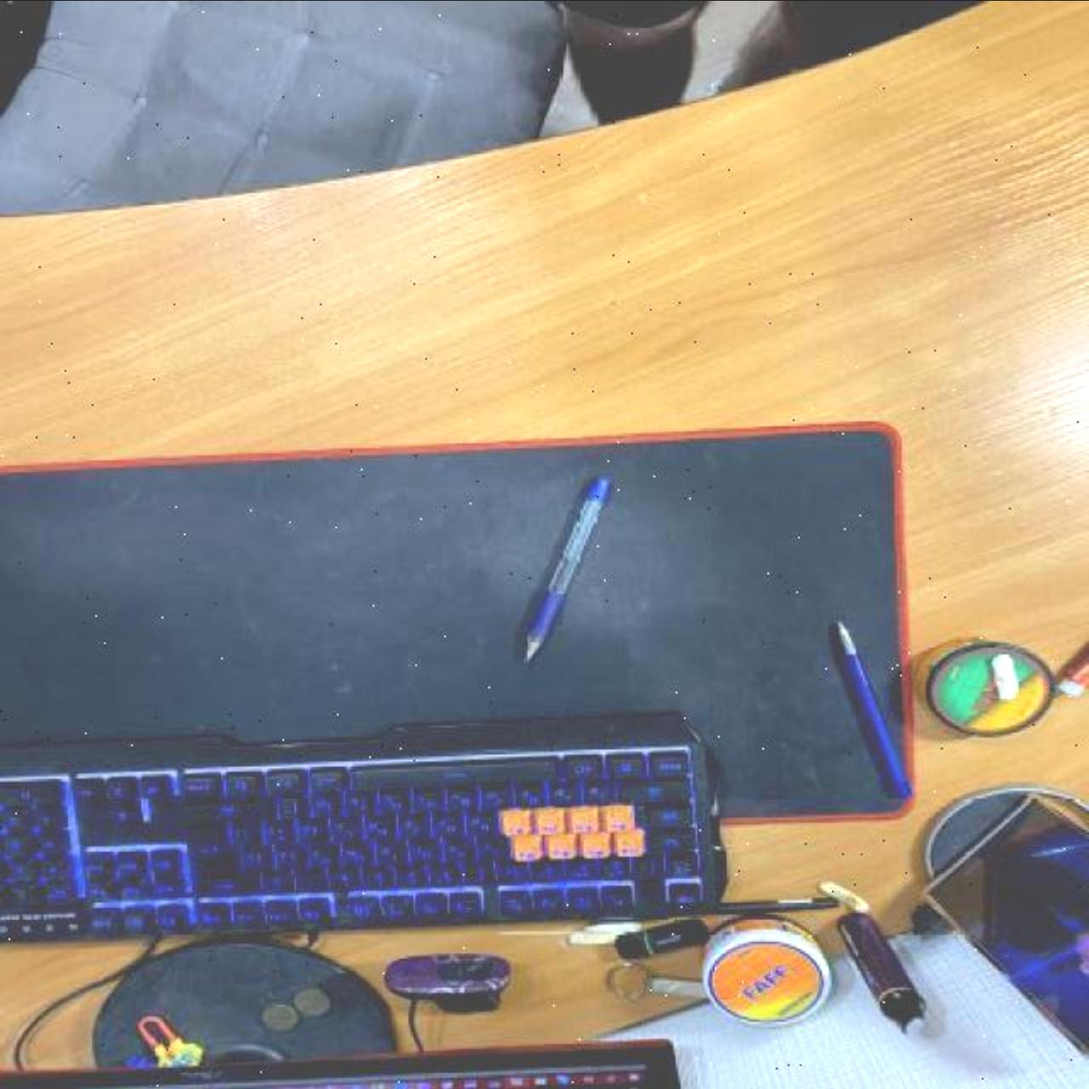pen: (517, 475, 616, 662)
